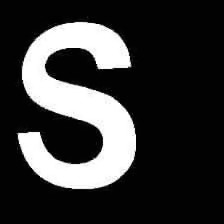LTR_S: (3, 16, 146, 194)
